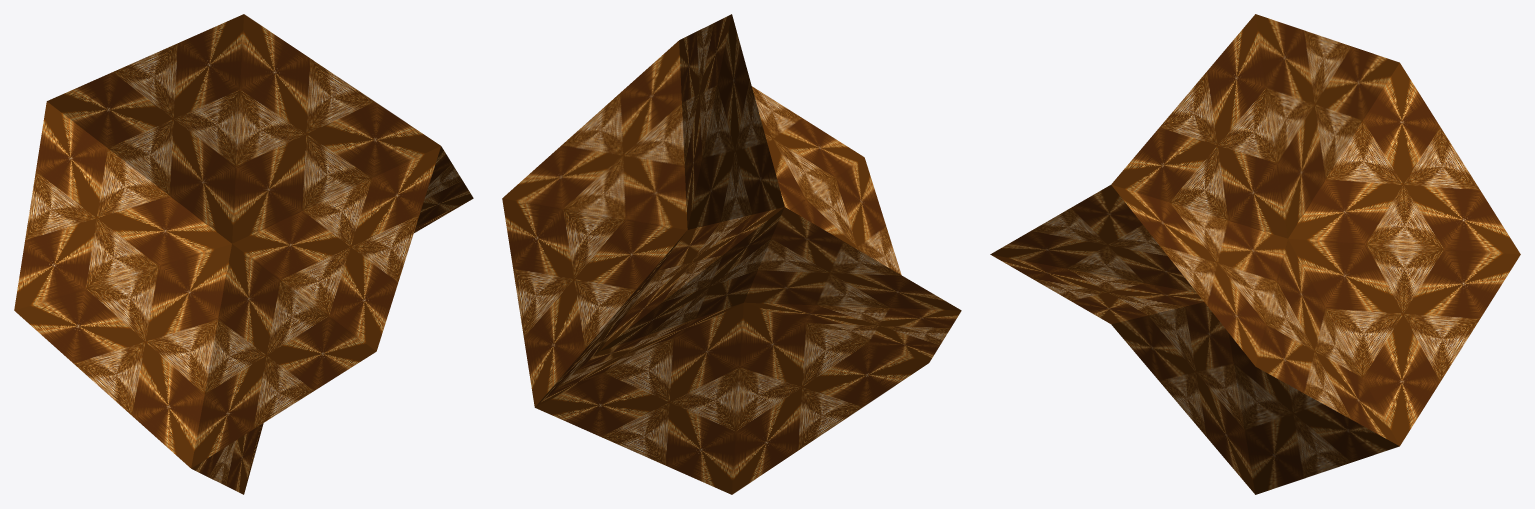
File: 20Mobius24.obj
3 views of the same model, side by side, from view 1: azimuth 30°, elevation 25°; view 2: azimuth 150°, elevation 25°; view 3: azimuth 270°, elevation 25° (orthographic).
Size of the model in its own units: 2.24 by 2.24 by 2.24.
Materials: 1 (1 with a texture image).
